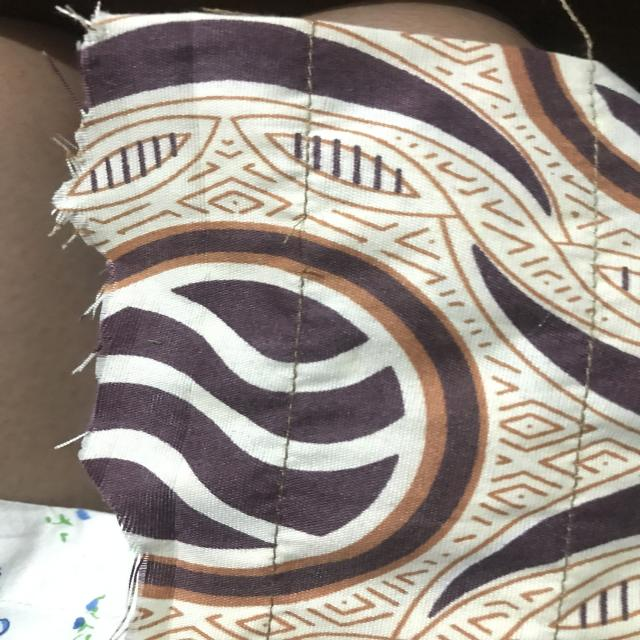broken: (256, 187, 337, 290)
good: (276, 335, 304, 438)
